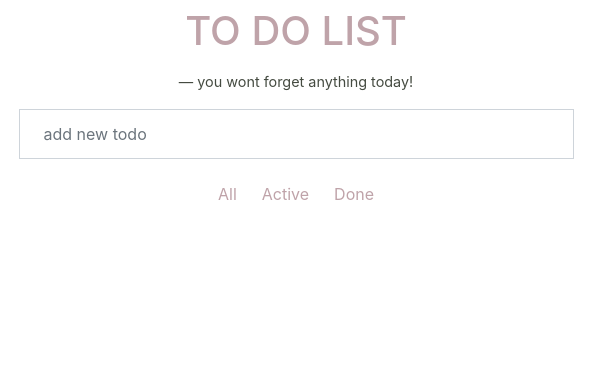
Test case: Filtering items tests › should filter active items
Type "Todo example" into the field with test id "add-item-input" at (297, 134), box [19,109,574,159]
Press Enter in the field with test id "add-item-input", box [19,109,574,159]
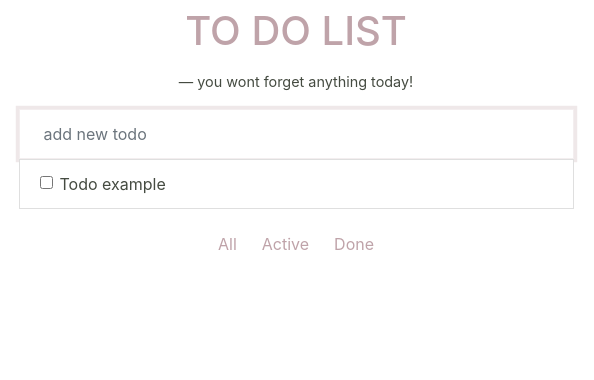
Type "Todo example" into the field with test id "add-item-input" at (297, 134), box [19,109,574,159]
Press Enter in the field with test id "add-item-input", box [19,109,574,159]
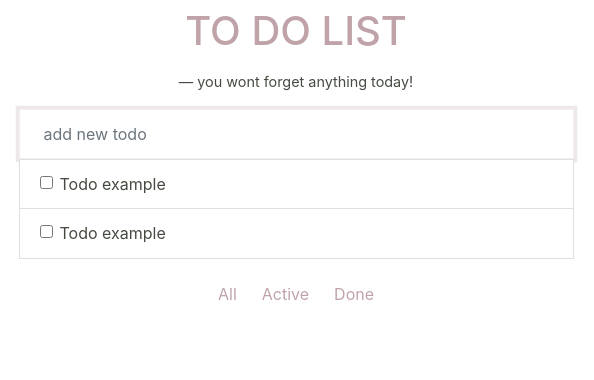
Type "Todo example" into the field with test id "add-item-input" at (297, 134), box [19,109,574,159]
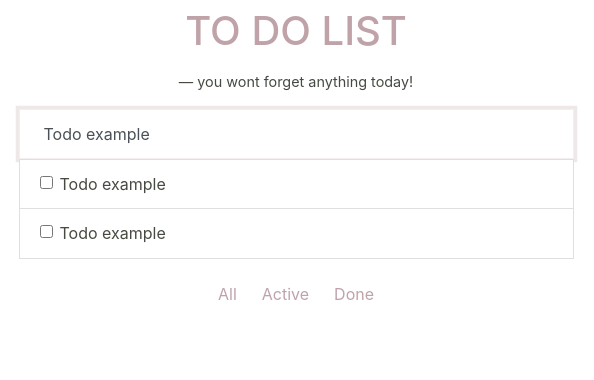
Press Enter in the field with test id "add-item-input", box [19,109,574,159]
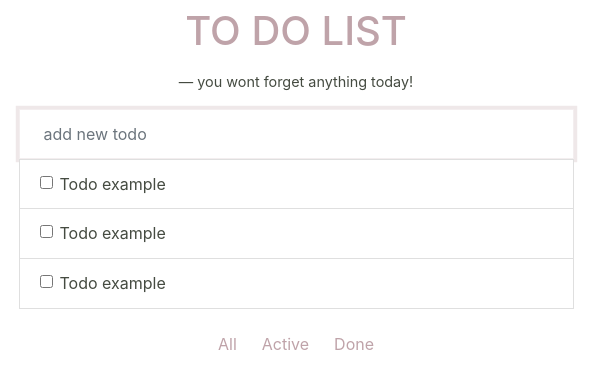
Expected: the number of elements with test id "item" is 3, [18,159,574,209]; [18,209,574,259]; [18,259,574,309]
Click the checkbox with test id "completed-checkbox" showing "Todo example" at (47, 183), box [40,176,53,189]
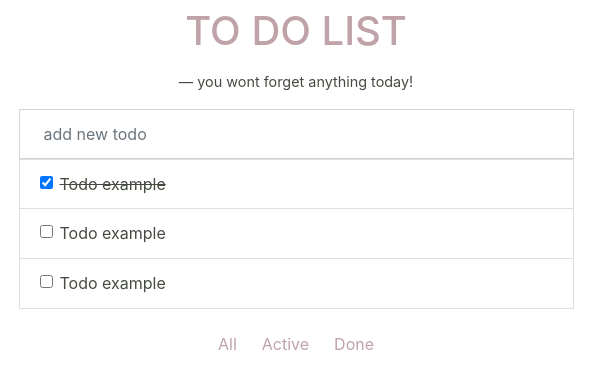
Click the button with test id "filter-active" at (286, 344), box [249,325,322,363]
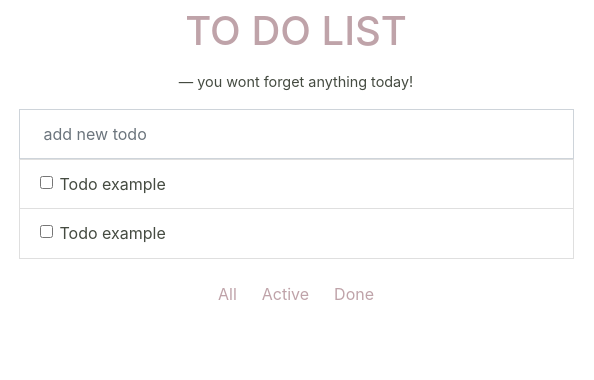
Expected: the number of elements with test id "item" is 2, [18,159,574,209]; [18,209,574,259]
